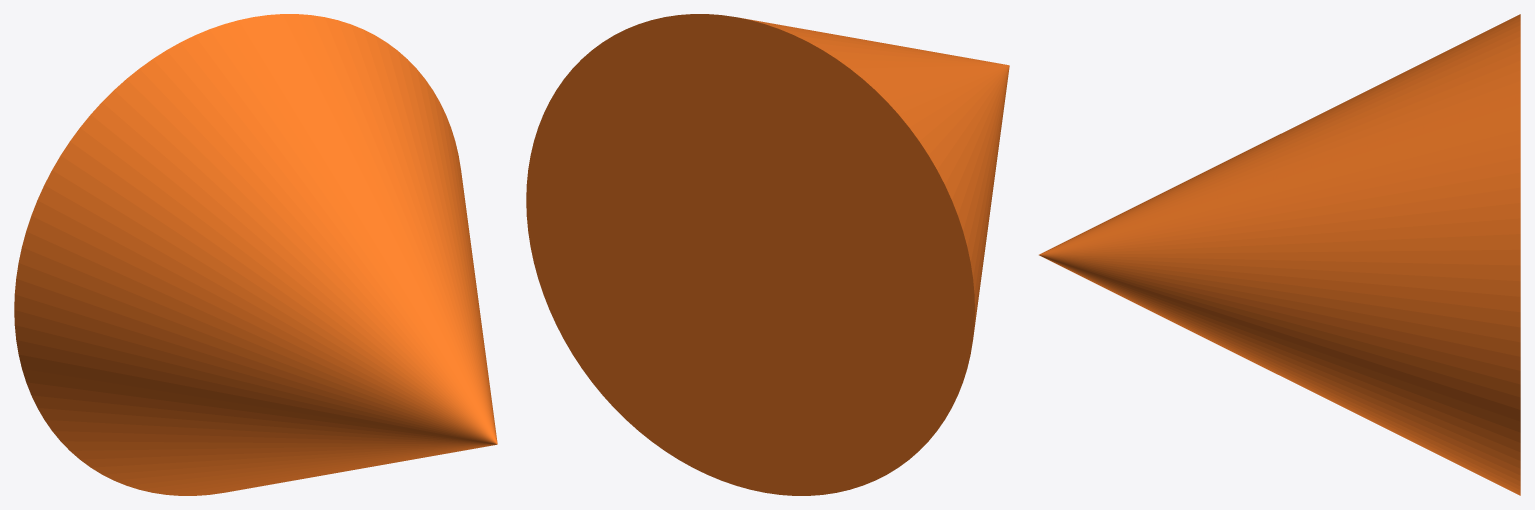
The model's file is arrow.obj.
3 views of the same model, side by side, from view 1: azimuth 30°, elevation 25°; view 2: azimuth 150°, elevation 25°; view 3: azimuth 270°, elevation 25° (orthographic). The views are drawn at different scales.
Parts seen in each view (by area): view 1: Object.1; view 2: Object.1; view 3: Object.1.
Part boxes in pixels (x1,y1,x2,y2): Object.1: (14,14,497,495); Object.1: (526,14,1009,495); Object.1: (1039,14,1520,495).
Bounding box in the file's own units: 40 × 40 × 40.
